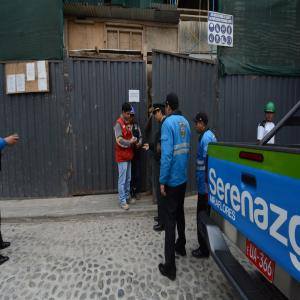Vehicle-registration-plate: (246, 238, 275, 283)
